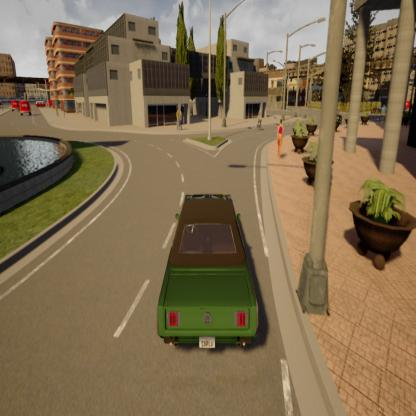Cars: (152, 173, 271, 361)
Pedestrian: (275, 114, 289, 165), (174, 102, 186, 136)
